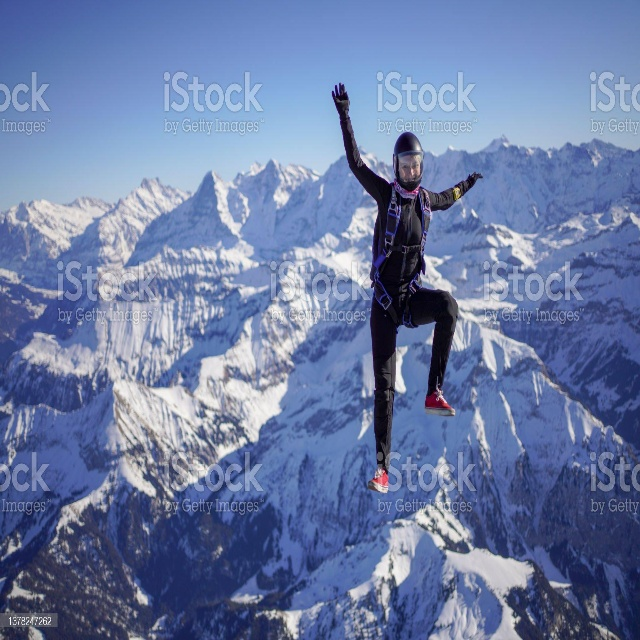Arnes_seguridad: (366, 176, 433, 332)
